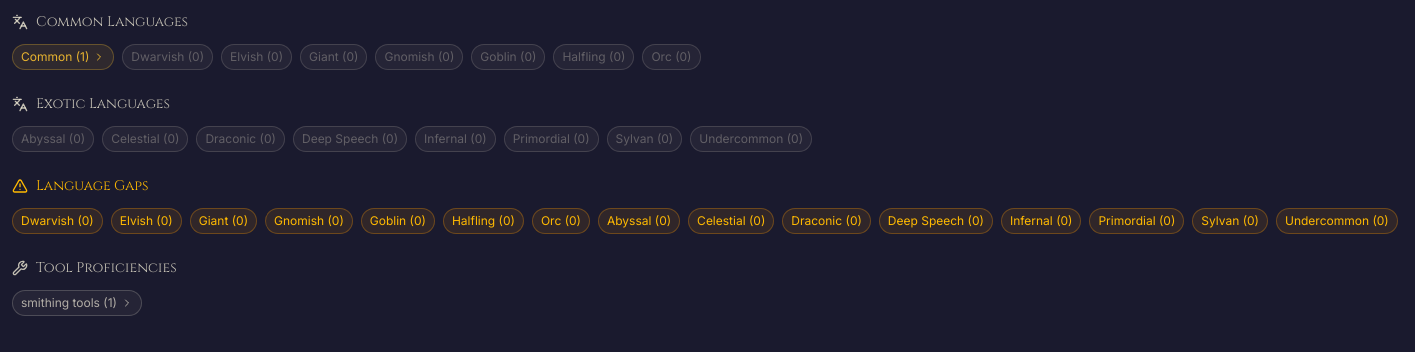
Scenario: LanguageCoverage › should expand tool badge to show users on click
What coordinates should you click on to do the following:
click the button "smithing tools (1)"
I would click on:
 (77, 303)
Its box is [12, 290, 142, 316].
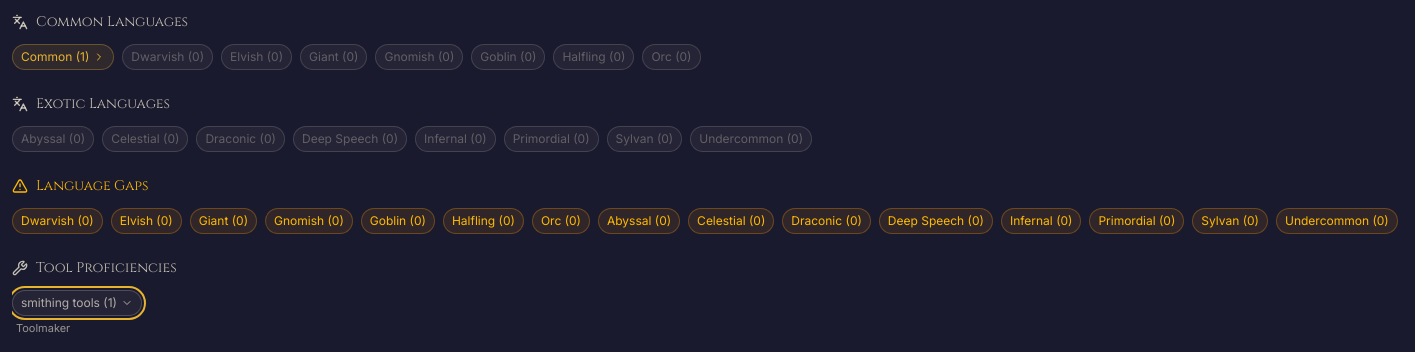
Now the text with test id "tool-users-smithing tools" reads "Toolmaker", box [16, 321, 70, 335]
